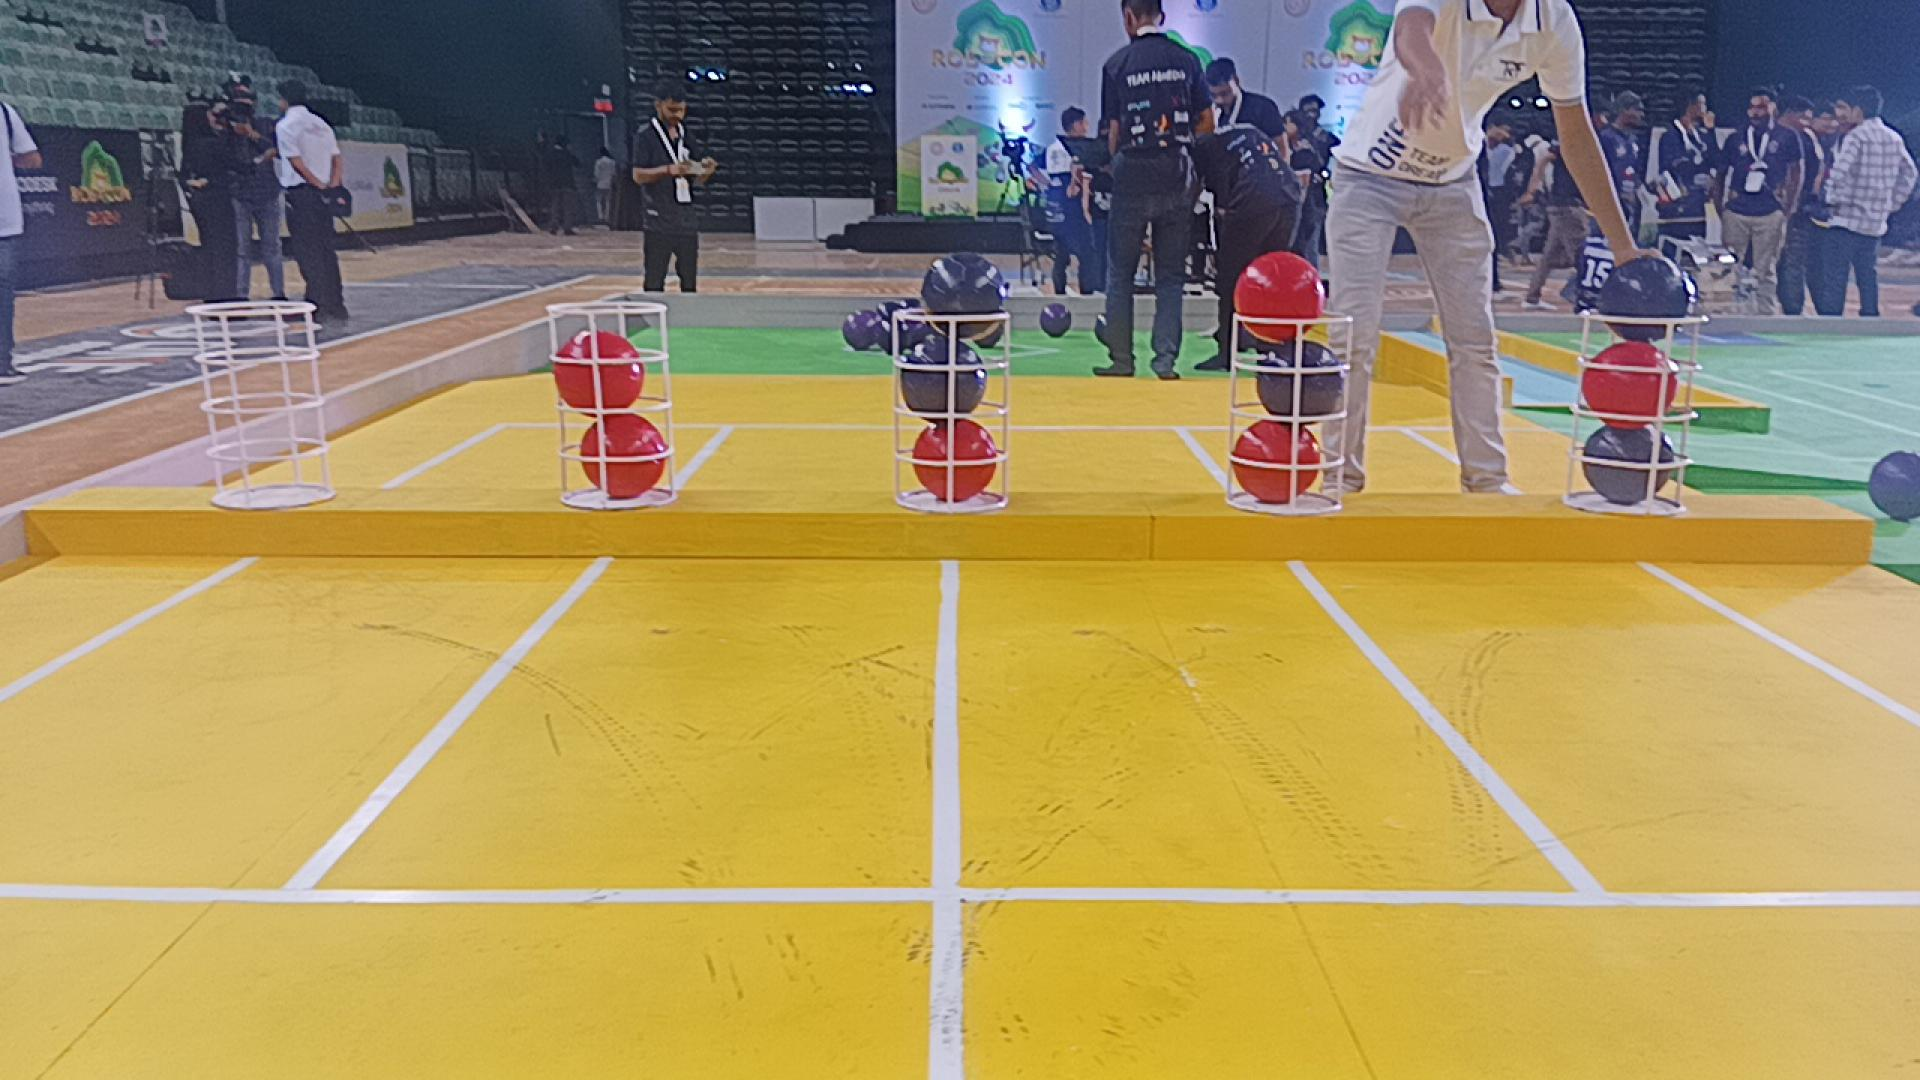dhoka: (1592, 255, 1692, 343), (198, 386, 295, 476), (1254, 338, 1348, 421), (1581, 425, 1675, 505), (898, 335, 988, 417), (923, 252, 1005, 338)
laale: (1581, 340, 1679, 429), (1232, 251, 1325, 342), (191, 303, 293, 384), (579, 413, 669, 501), (1230, 419, 1324, 504), (913, 418, 998, 501), (555, 330, 645, 407)
